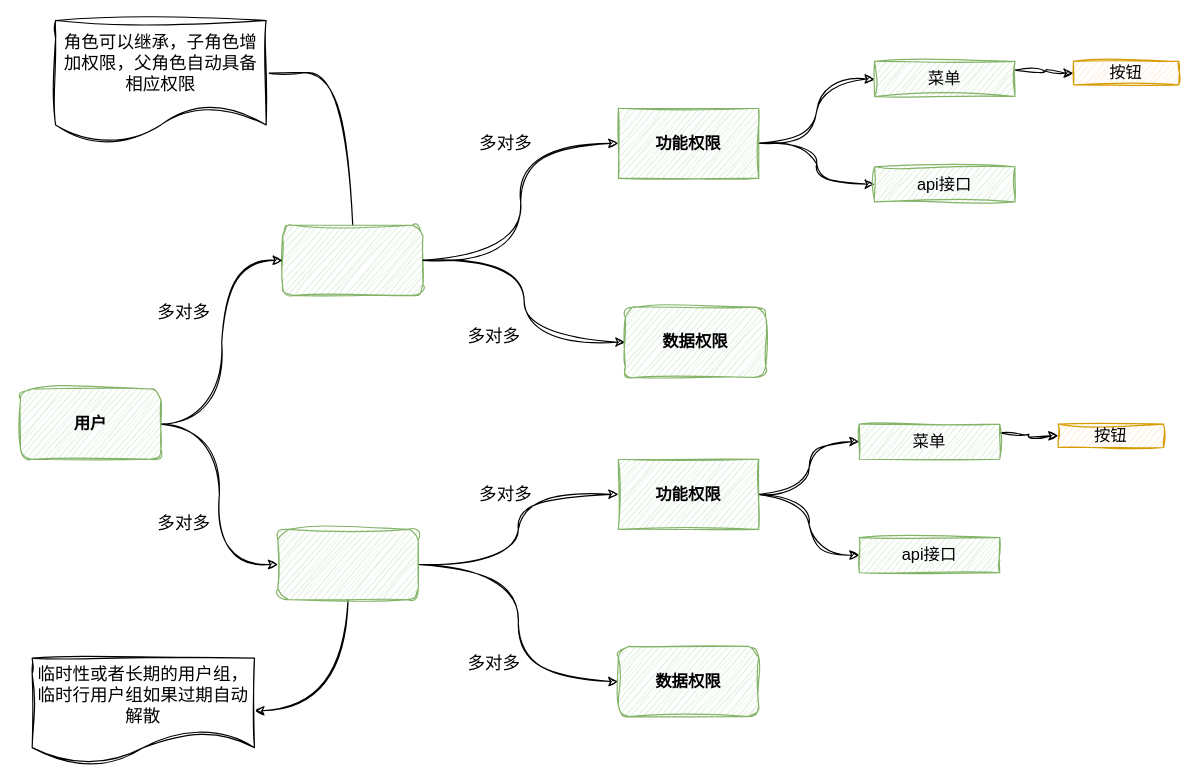
The diagram is 1199 pixels wide and 784 high, and some of its shapes have lost their labels. The centre of each missing label's shape, as x and y in pixels:
"用户组" goes at pixel 347 564.
"角色" goes at pixel 352 259.
